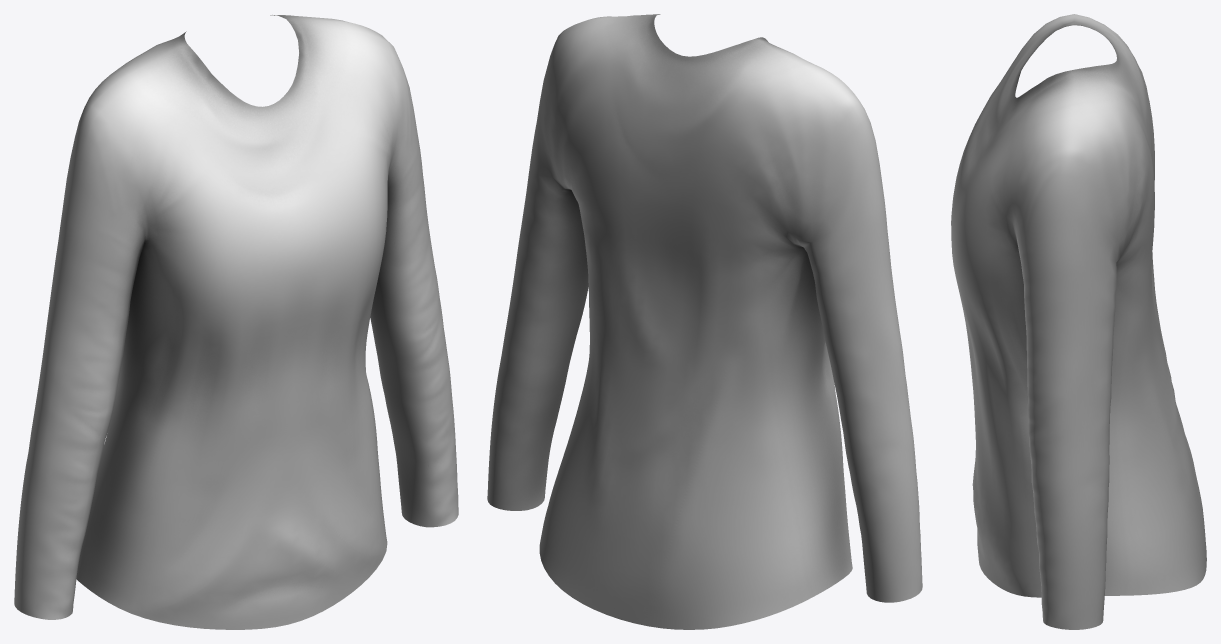
The model's file is long-sleeve-hitting-tees-without-hood.glb.
The picture shows the model from 3 angles, left to right: view 1: azimuth 30°, elevation 25°; view 2: azimuth 150°, elevation 25°; view 3: azimuth 270°, elevation 25°; orthographic projection. The views are drawn at different scales.
Parts seen in each view (by area): view 1: Dress_1_Group6255_0003_Dress_1_Group6255_0003; view 2: Dress_1_Group6255_0003_Dress_1_Group6255_0003; view 3: Dress_1_Group6255_0003_Dress_1_Group6255_0003.
Boxes of the visible parts, x1,y1,x2,y2 form: Dress_1_Group6255_0003_Dress_1_Group6255_0003: (14, 15, 458, 629); Dress_1_Group6255_0003_Dress_1_Group6255_0003: (487, 14, 922, 629); Dress_1_Group6255_0003_Dress_1_Group6255_0003: (951, 14, 1206, 629).
Bounding box in the file's own units: 5.12 × 6.26 × 2.83.
Materials: 5 (5 with a texture image).
